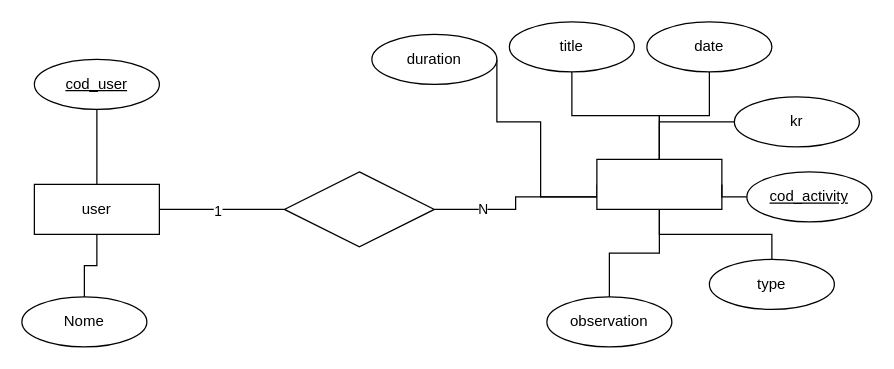
The diagram is 894 pixels wide and 369 high, and some of its shapes have lost their labels. The centre of each missing label's shape, as x and y in pixels:
activity: the point at 659,183
realiza: the point at 358,209
